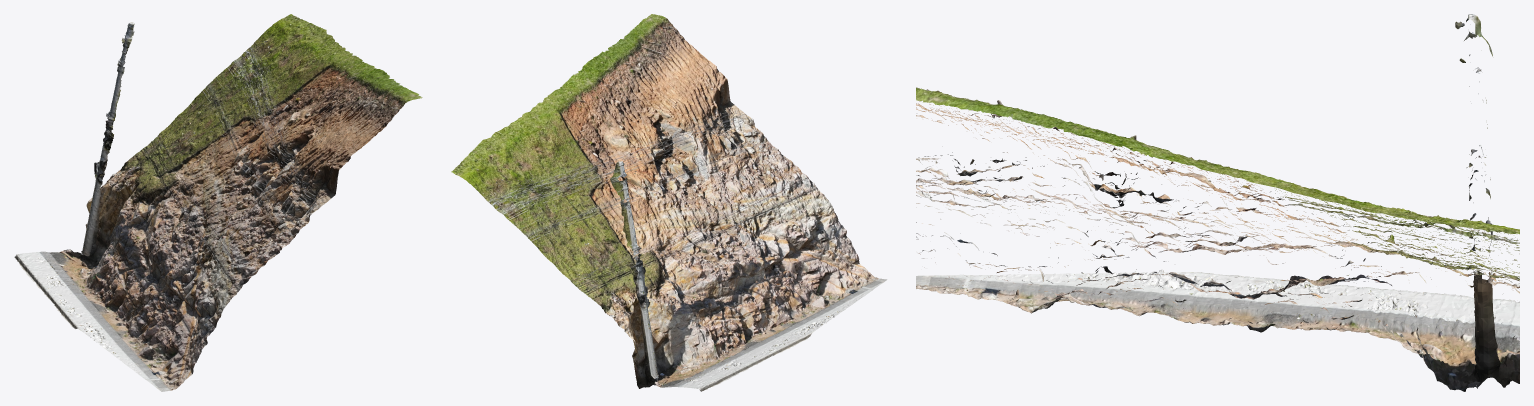
3 renders of one model, left to right at view 1: azimuth 30°, elevation 25°; view 2: azimuth 150°, elevation 25°; view 3: azimuth 270°, elevation 25°, orthographic. The views are drawn at different scales.
Size of the model in its own units: 15.26 by 11.79 by 15.26.
Materials: 4 (4 with a texture image).
